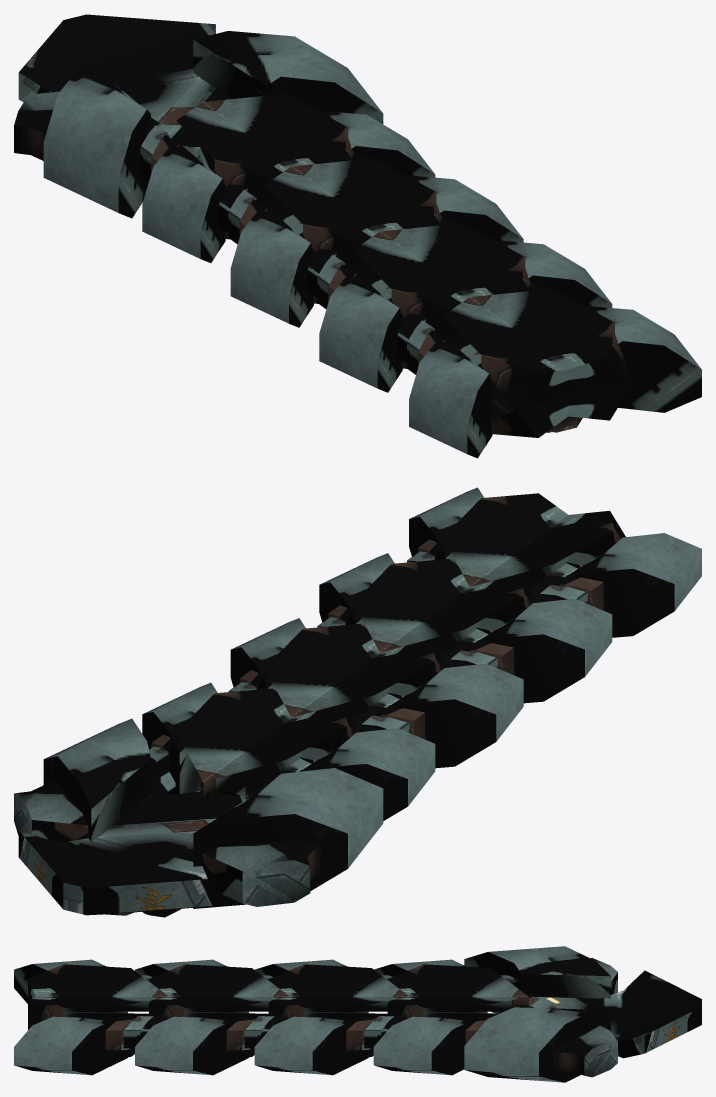
File: Kuma Oki.fbx
3 views of the same model, one above another, from view 1: azimuth 30°, elevation 25°; view 2: azimuth 150°, elevation 25°; view 3: azimuth 270°, elevation 25° (orthographic). The views are drawn at different scales.
Parts seen in each view (by area): view 1: Kuma Oki; view 2: Kuma Oki; view 3: Kuma Oki.
Boxes of the visible parts, x1,y1,x2,y2 form: Kuma Oki: [14, 14, 701, 458]; Kuma Oki: [14, 487, 701, 917]; Kuma Oki: [14, 946, 701, 1082].
Bounding box in the file's own units: 135 × 53.17 × 392.
Materials: 1 (1 with a texture image).
